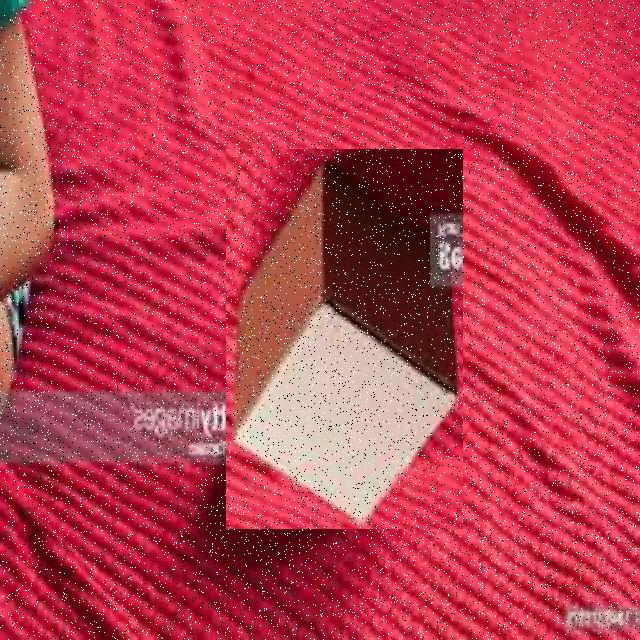normal: (226, 149, 463, 529)
